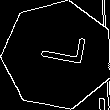L_W: (29, 35, 86, 76)
